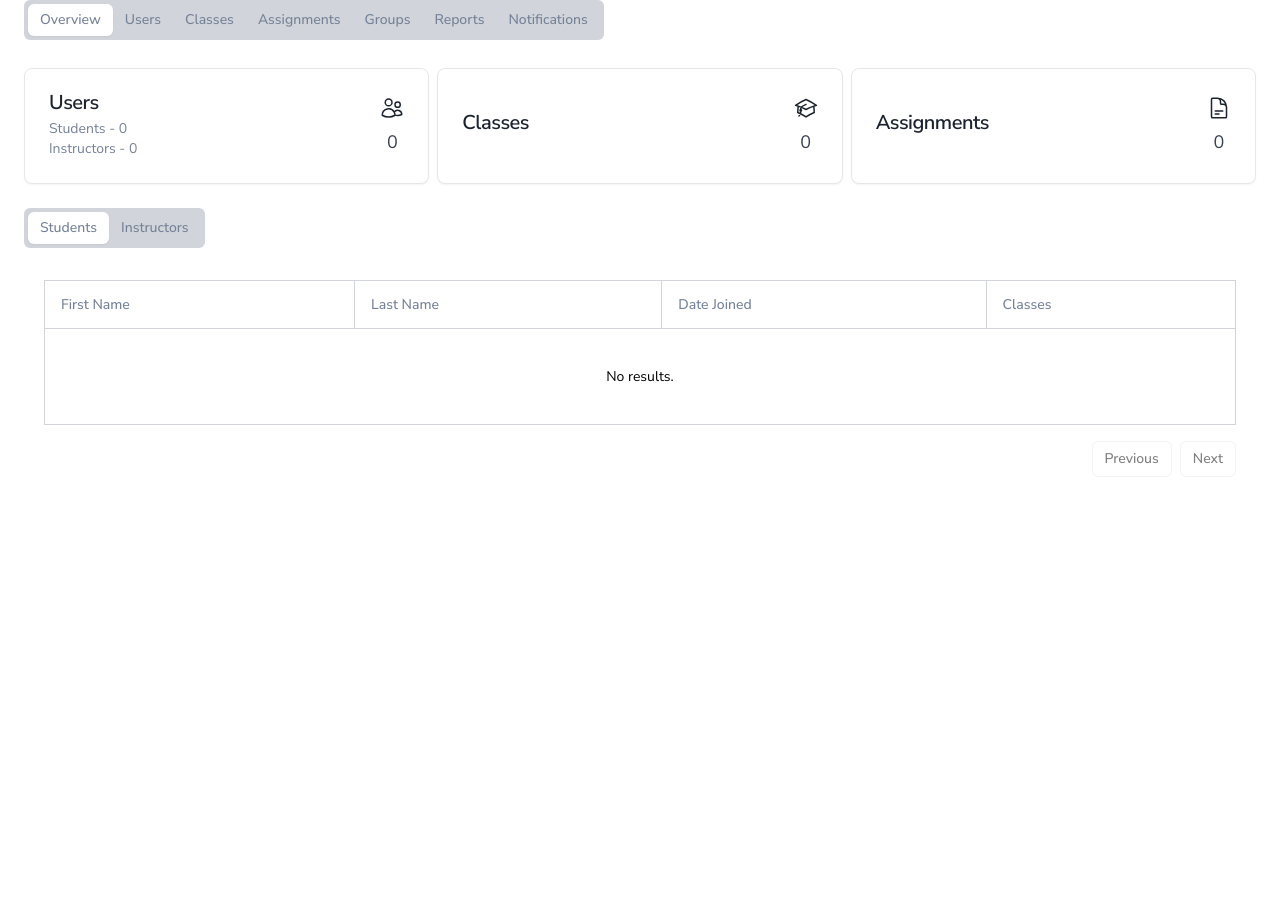
Scenario: AdminDashboard Component › renders Users tab content when Users tab is clicked
Click the tab "Users" at (143, 20), box [113,4,173,36]
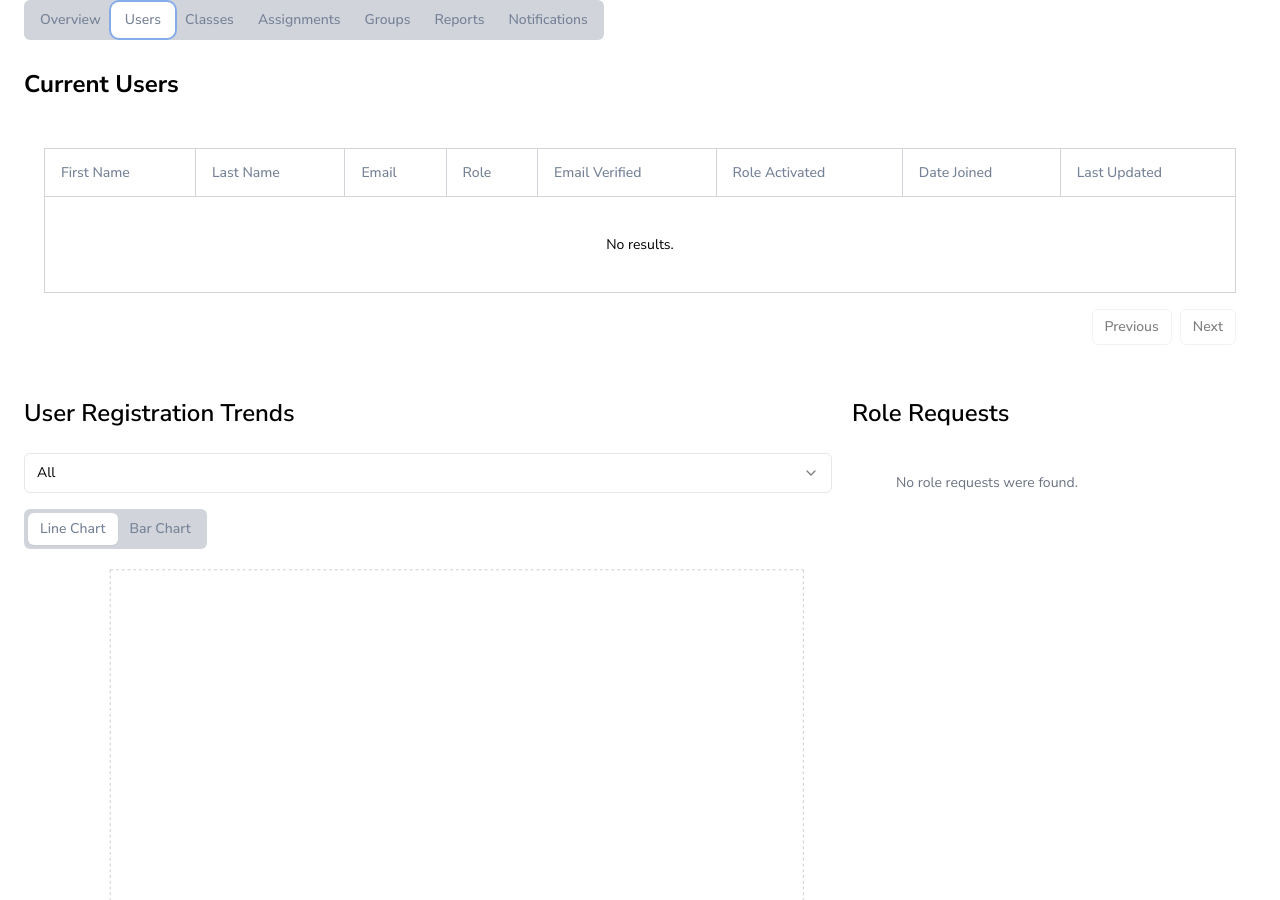
Now the heading "Role Requests" is shown, box [852,397,1009,429]
